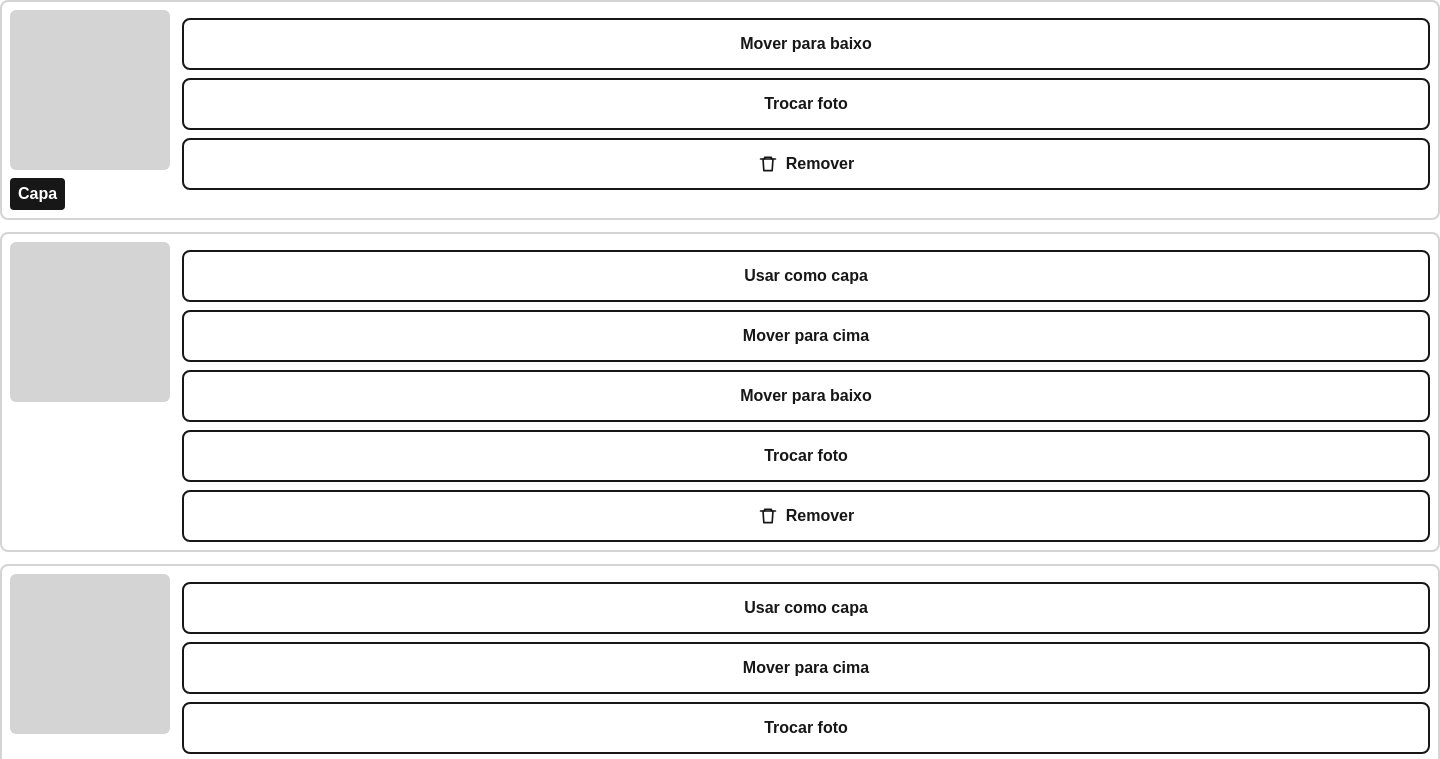
Test: GerenciarFotos — R2: foco (T105a) › clicar Trocar foto na foto 2 ⇒ aparece PEDIDO_TROCA(2) e ele recebe o foco
Click the 2nd button "Trocar foto" at (806, 456), box [182,430,1430,482]
(page scrolled)
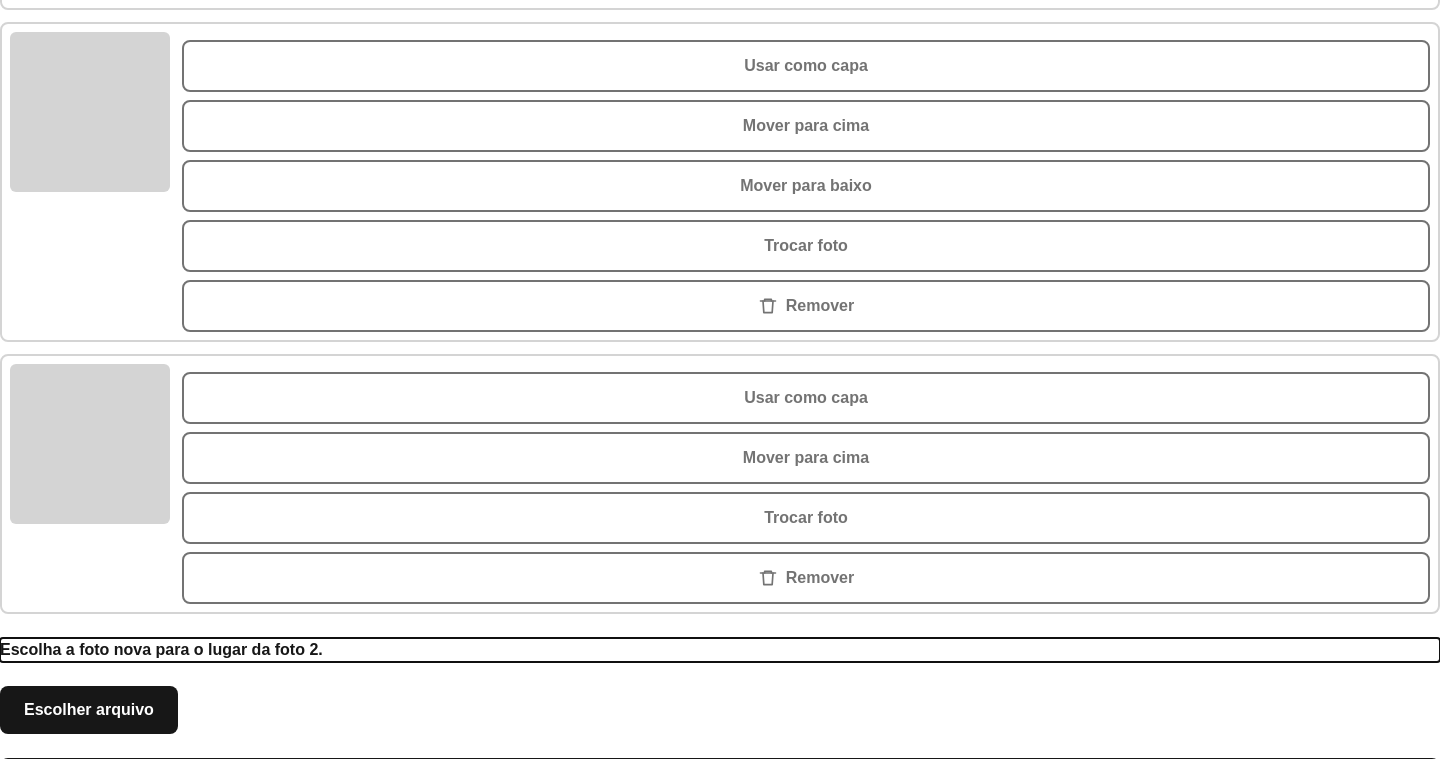
Now the text "Escolha a foto nova para o lugar da foto 2." is shown, box [0,641,323,658]
